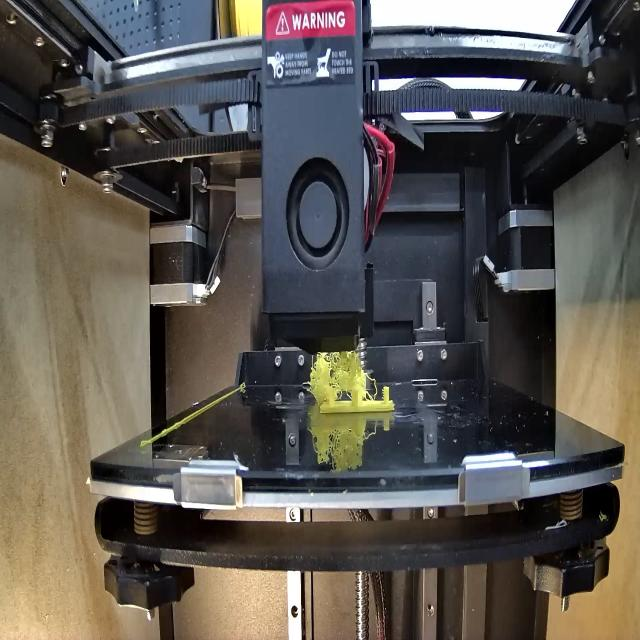spaghetti: (308, 350, 377, 405)
